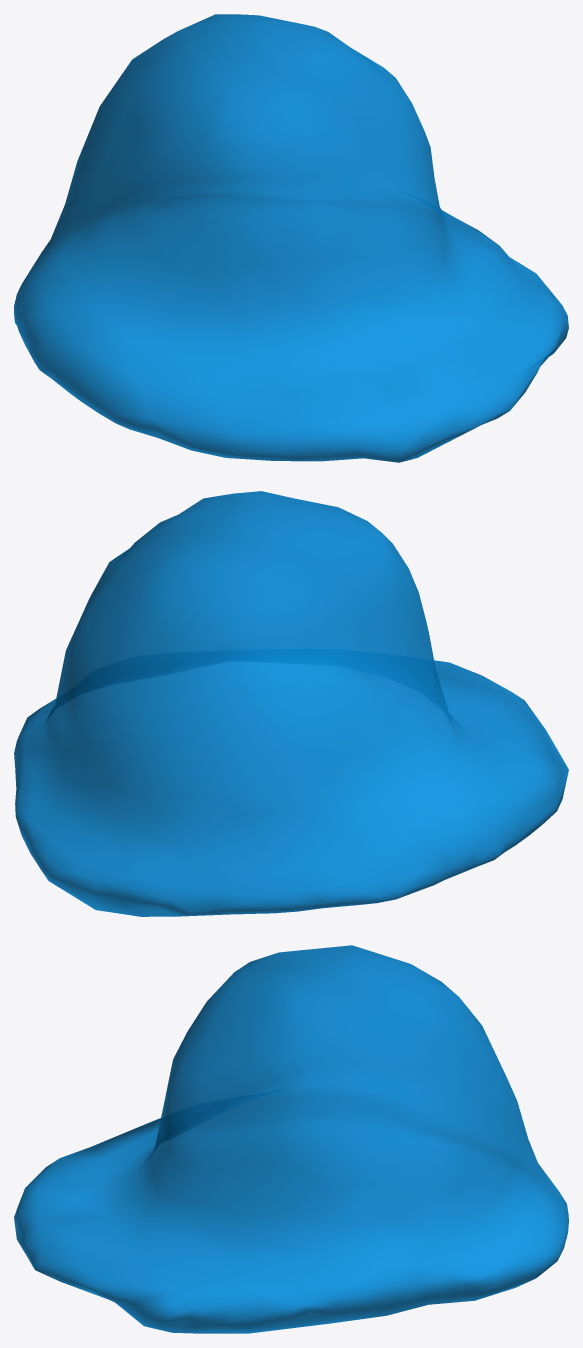
File: boss_slime.glb
3 views of the same model, one above another, from view 1: azimuth 30°, elevation 25°; view 2: azimuth 150°, elevation 25°; view 3: azimuth 270°, elevation 25° (orthographic). The views are drawn at different scales.
Parts seen in each view (by area): view 1: Cube; view 2: Cube; view 3: Cube.
Boxes of the visible parts, left/top/right/bottom form: Cube: left=14, top=14, right=568, bottom=462; Cube: left=14, top=491, right=568, bottom=916; Cube: left=14, top=945, right=568, bottom=1333.
Size of the model in its own units: 3.16 by 2.07 by 3.61.
